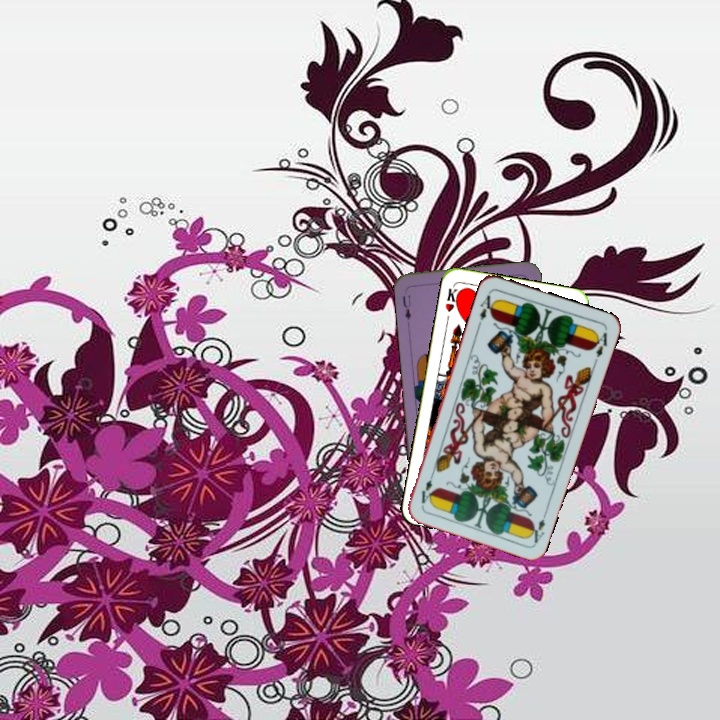EA: (525, 506, 550, 545), (474, 288, 498, 328)
EU: (399, 291, 414, 322)
HK: (441, 282, 463, 314)
